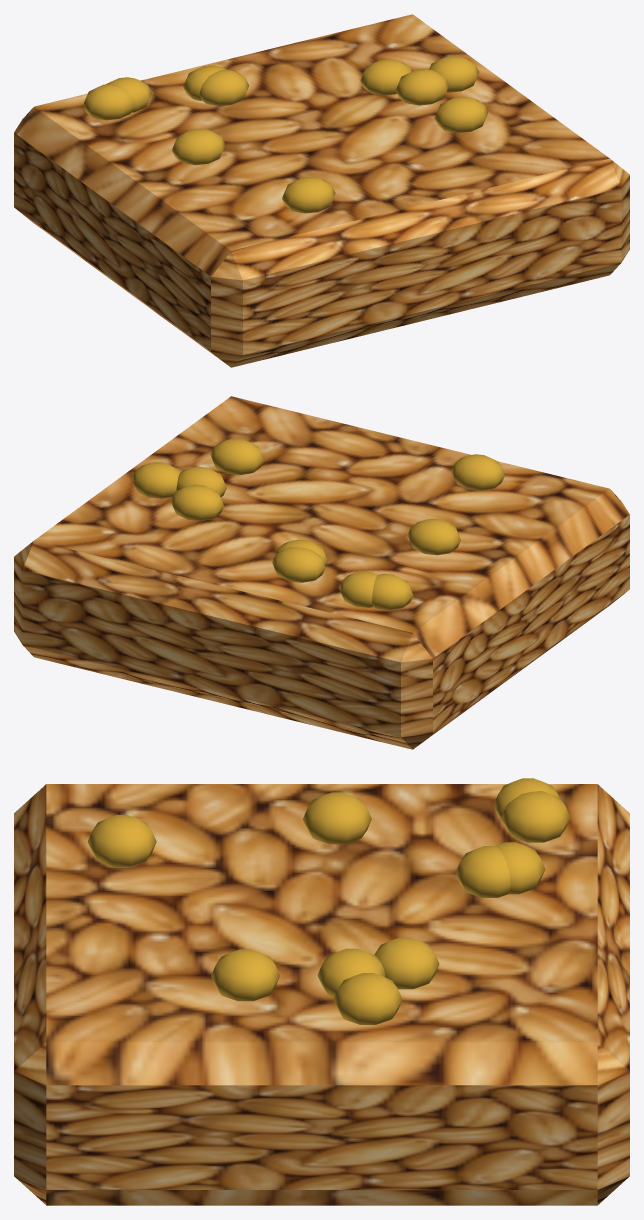
File: CoopCozy_Fill5.fbx
3 views of the same model, one above another, from view 1: azimuth 30°, elevation 25°; view 2: azimuth 150°, elevation 25°; view 3: azimuth 270°, elevation 25° (orthographic). The views are drawn at different scales.
Parts seen in each view (by area): view 1: CoopCozy_Fill5; view 2: CoopCozy_Fill5; view 3: CoopCozy_Fill5.
Boxes of the visible parts, x1=… form: CoopCozy_Fill5: x1=14, y1=14, x2=629, y2=367; CoopCozy_Fill5: x1=14, y1=396, x2=629, y2=749; CoopCozy_Fill5: x1=14, y1=778, x2=629, y2=1205.
Size of the model in its own units: 0.45 by 0.146 by 0.41.
